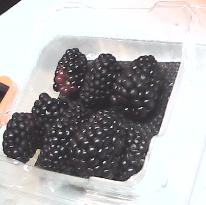berry: (67, 109, 127, 178), (111, 55, 159, 119), (77, 54, 124, 108), (110, 123, 147, 183), (32, 93, 72, 148), (34, 120, 75, 173), (53, 47, 88, 98), (2, 112, 38, 161)
